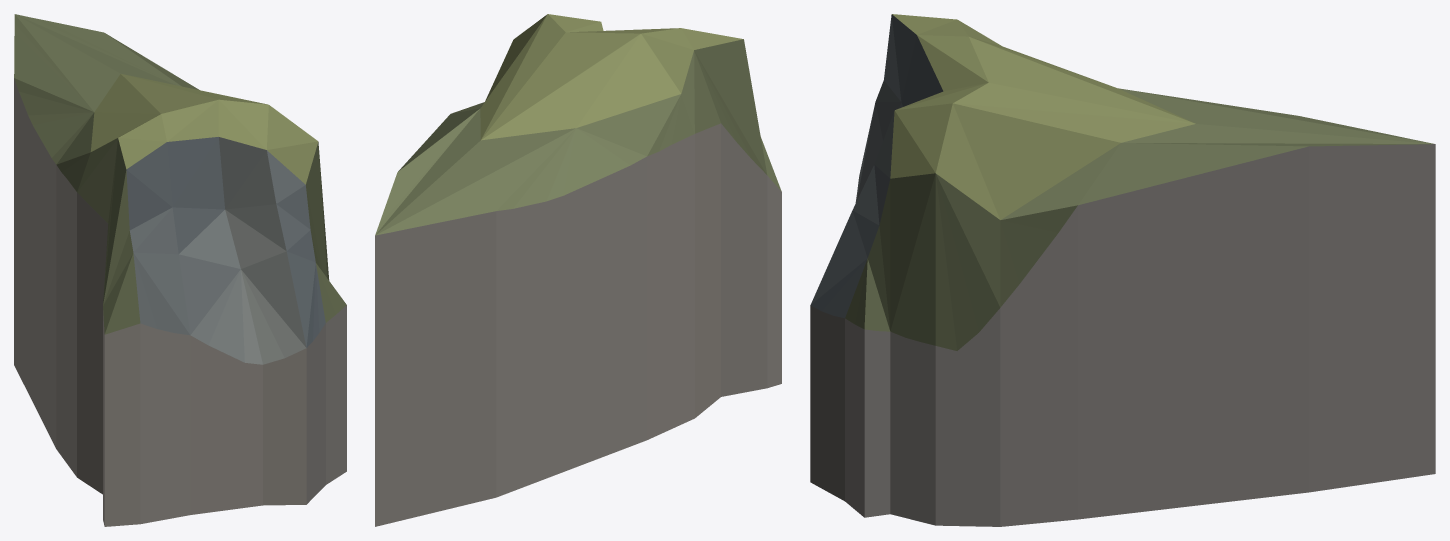
Rendered from cliff_central_wall.glb.
3 views of the same model, side by side, from view 1: azimuth 30°, elevation 25°; view 2: azimuth 150°, elevation 25°; view 3: azimuth 270°, elevation 25° (orthographic). The views are drawn at different scales.
Parts seen in each view (by area): view 1: cliff_central_wall; view 2: cliff_central_wall; view 3: cliff_central_wall.
Part boxes in pixels (box(x1,y1,x2,y2)): cliff_central_wall: box(14, 14, 346, 526); cliff_central_wall: box(375, 14, 781, 526); cliff_central_wall: box(810, 14, 1435, 526).
Bounding box in the file's own units: 51.4 × 68.9 × 96.56.
